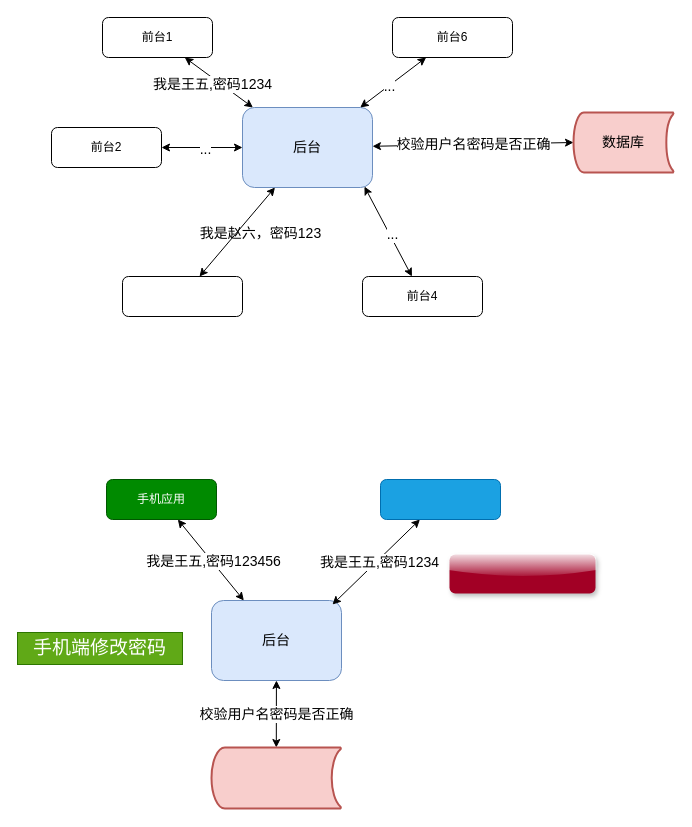
Image size: 692x827. Some labels were removed from this diagram. Each missing label, with the centre of its shape:
"WEB应用" belongs at point (440, 499).
"前台3" belongs at point (182, 296).
"王五 密码123456" belongs at point (276, 777).
"😩原密码失败，访问无缘无故被终止" belongs at point (523, 575).
